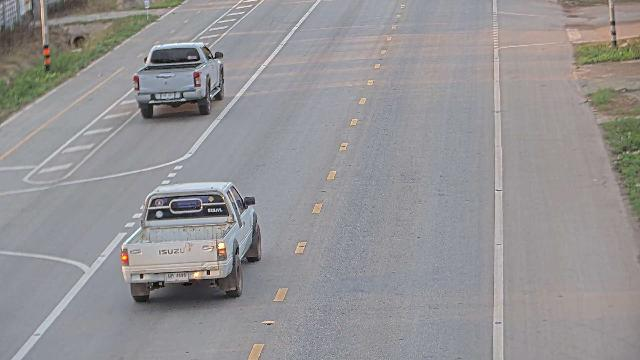pickup-truck: (120, 181, 262, 302), (132, 41, 225, 118)
